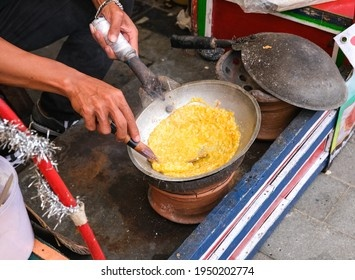kerak_telor: (146, 104, 241, 178)
